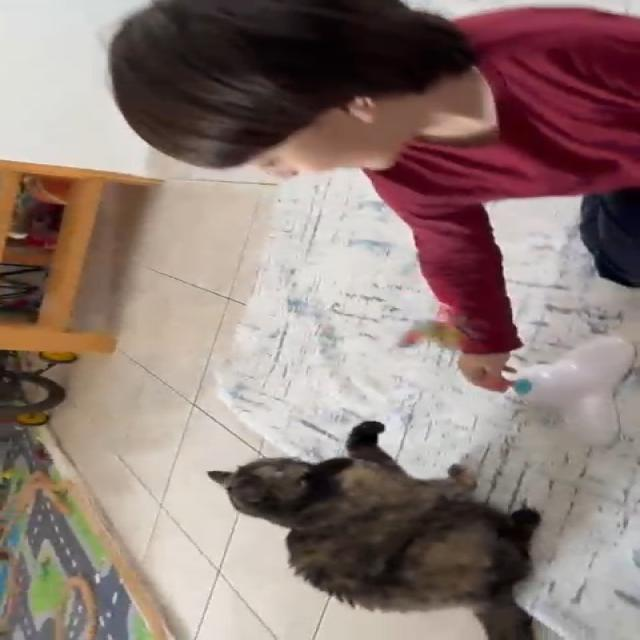authorized: (205, 421, 543, 638)
